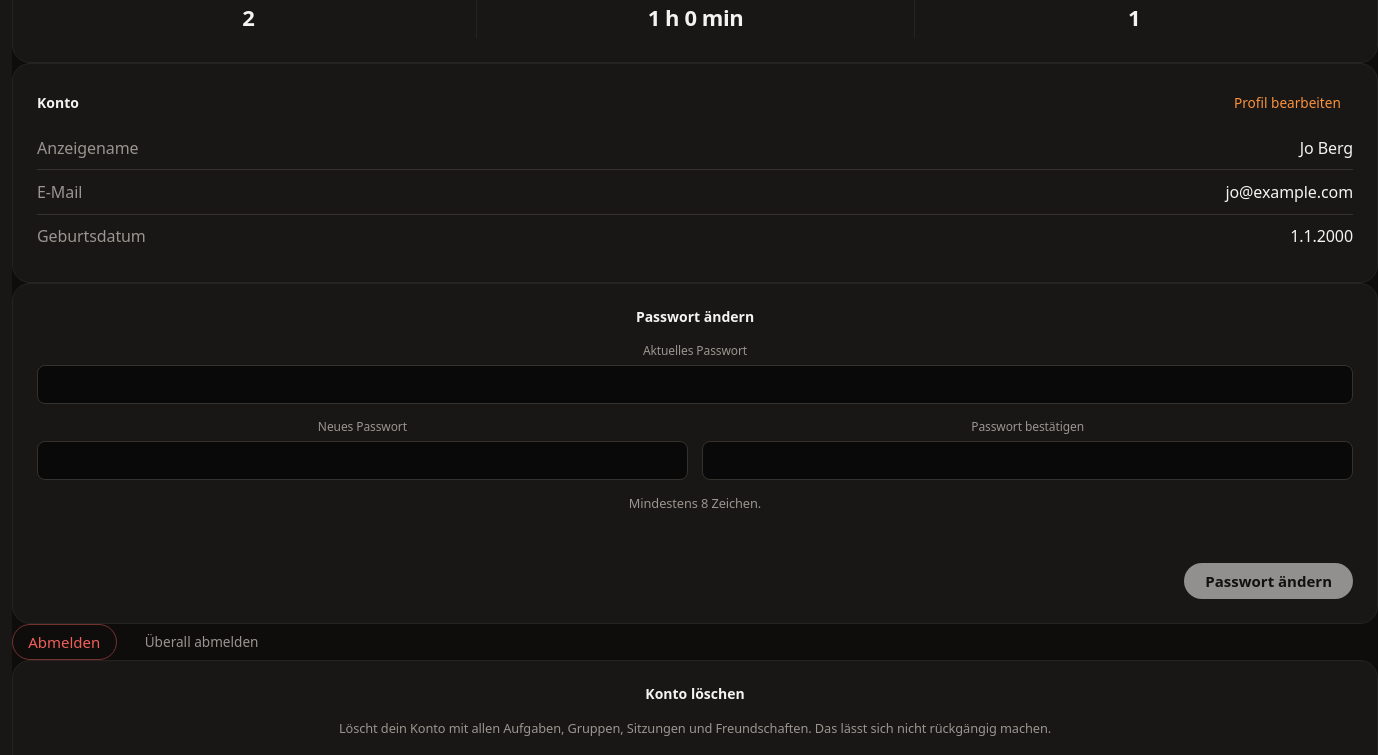
Test case: ProfileView › changing the password › says when the current password is wrong
(page scrolled)
Step 1. Type "wrong" into the password field labelled "Aktuelles Passwort" → x=695, y=384, box [37, 365, 1353, 404]
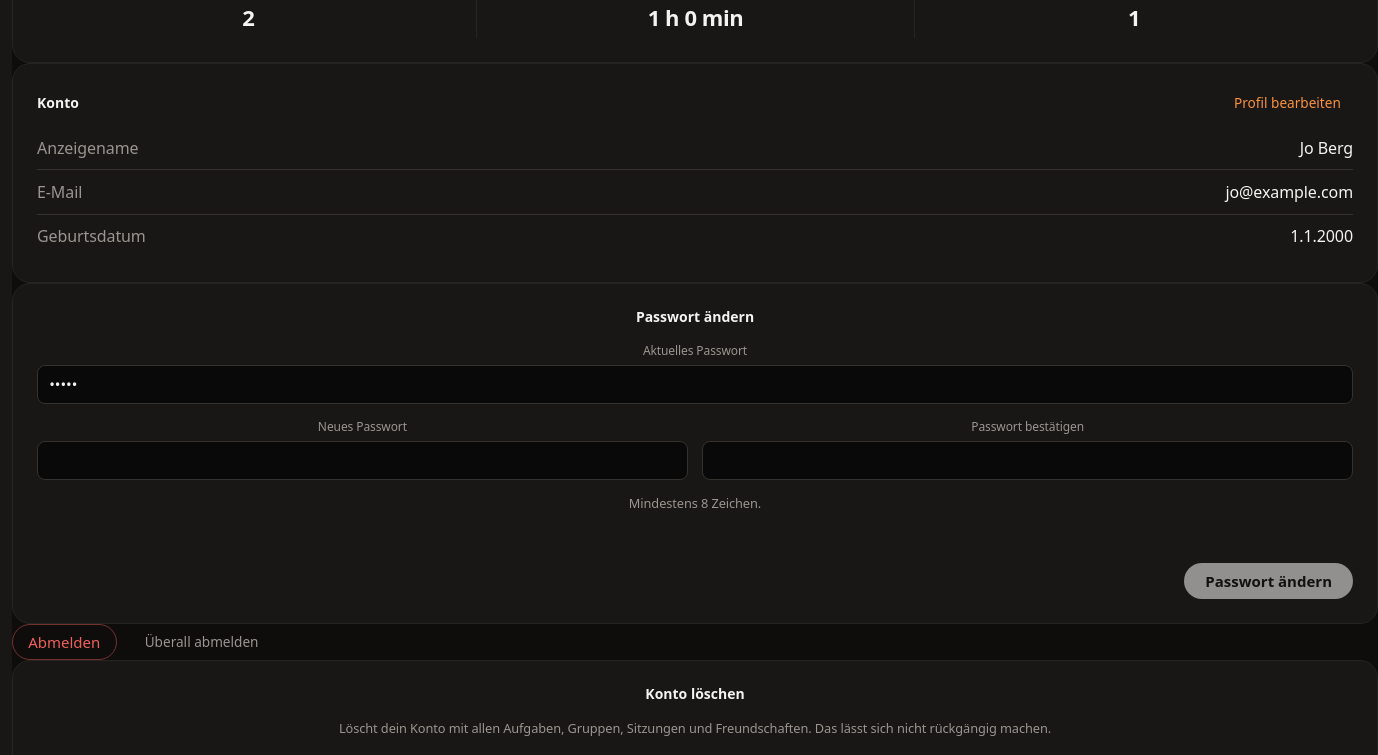
Step 2. Type "new-password" into the password field labelled "Neues Passwort" → x=362, y=460, box [37, 441, 688, 480]
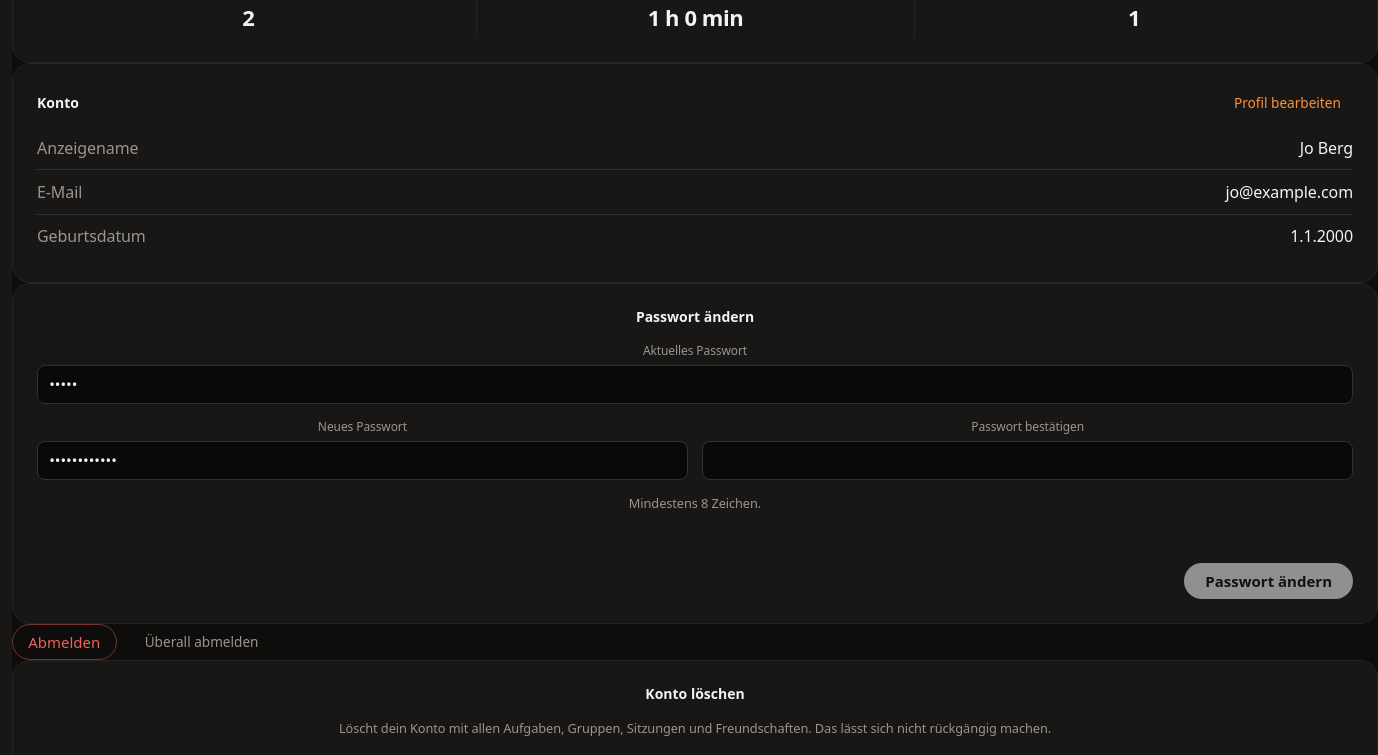
Step 3. Type "new-password" into the password field labelled "Passwort bestätigen" → x=1028, y=460, box [702, 441, 1353, 480]
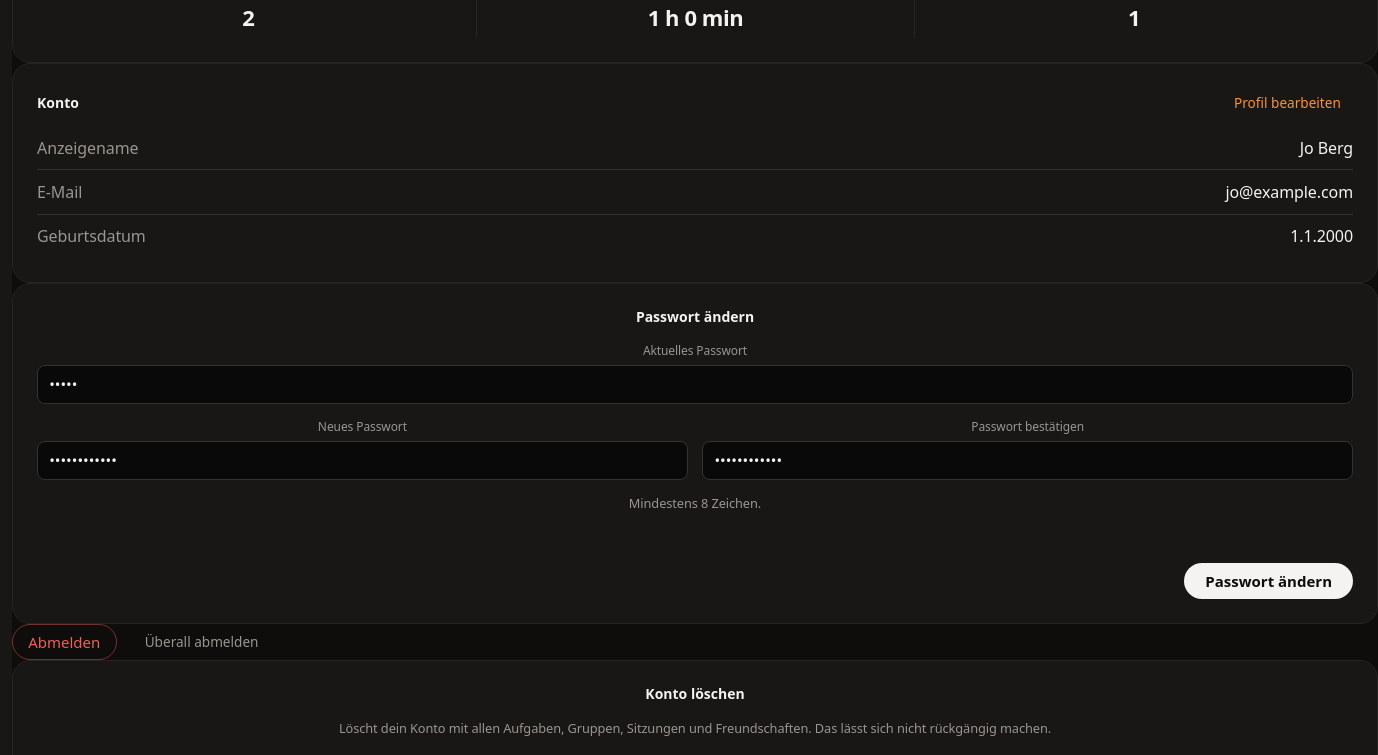
Step 4. Click the button "Passwort ändern" → x=1269, y=581, box [1184, 563, 1353, 599]
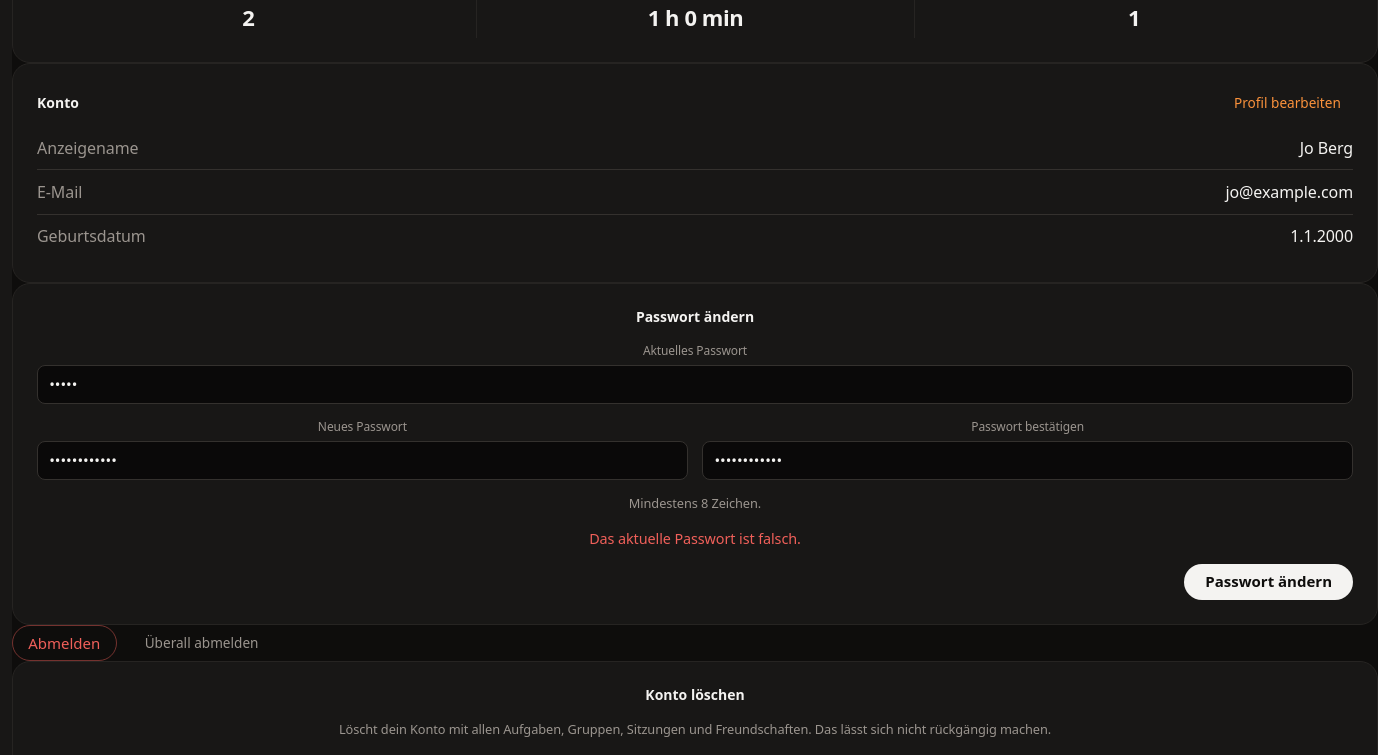
Expected: the text "Das aktuelle Passwort ist falsch." is shown, [589, 529, 801, 548]
